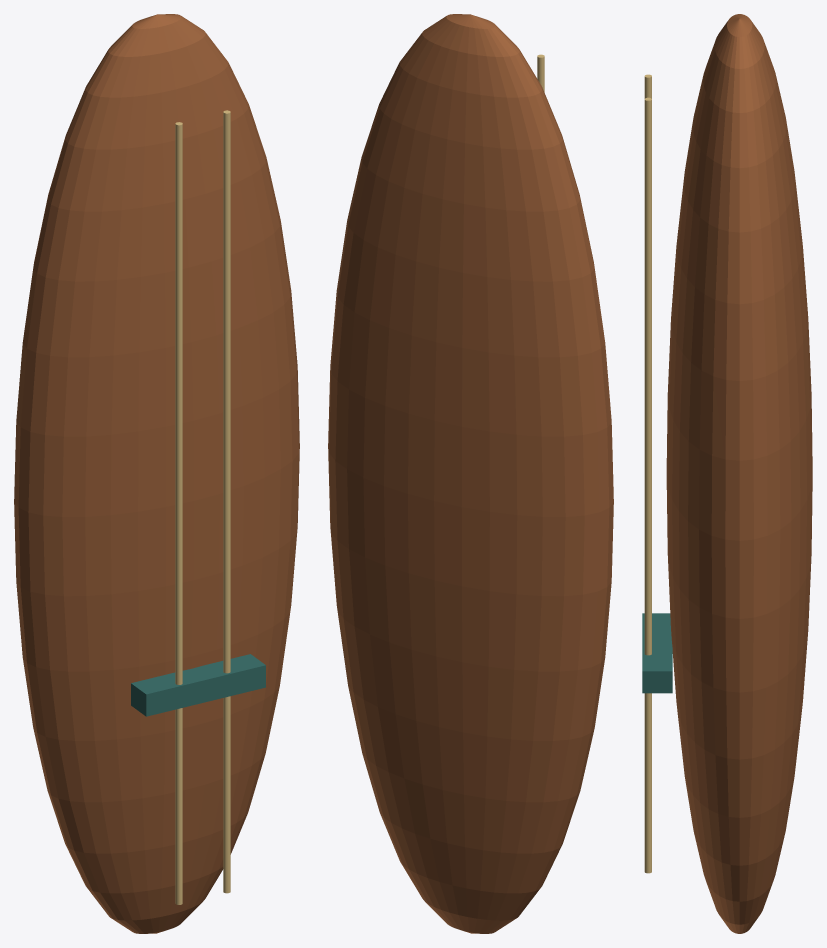
The model's file is demo.glb.
3 renders of one model, left to right at view 1: azimuth 30°, elevation 25°; view 2: azimuth 150°, elevation 25°; view 3: azimuth 270°, elevation 25°, orthographic.
Parts seen in each view (by area): view 1: body, strings, bridge; view 2: body; view 3: body, strings, bridge.
Part boxes in pixels (x1,y1,x2,y2): body: (14,14,299,933); strings: (175,110,230,904); bridge: (131,654,265,716); body: (328,14,613,933); body: (666,14,812,933); strings: (644,74,651,873); bridge: (642,613,672,693).
Size of the model in its own units: 1.04 by 3.3 by 0.56.
